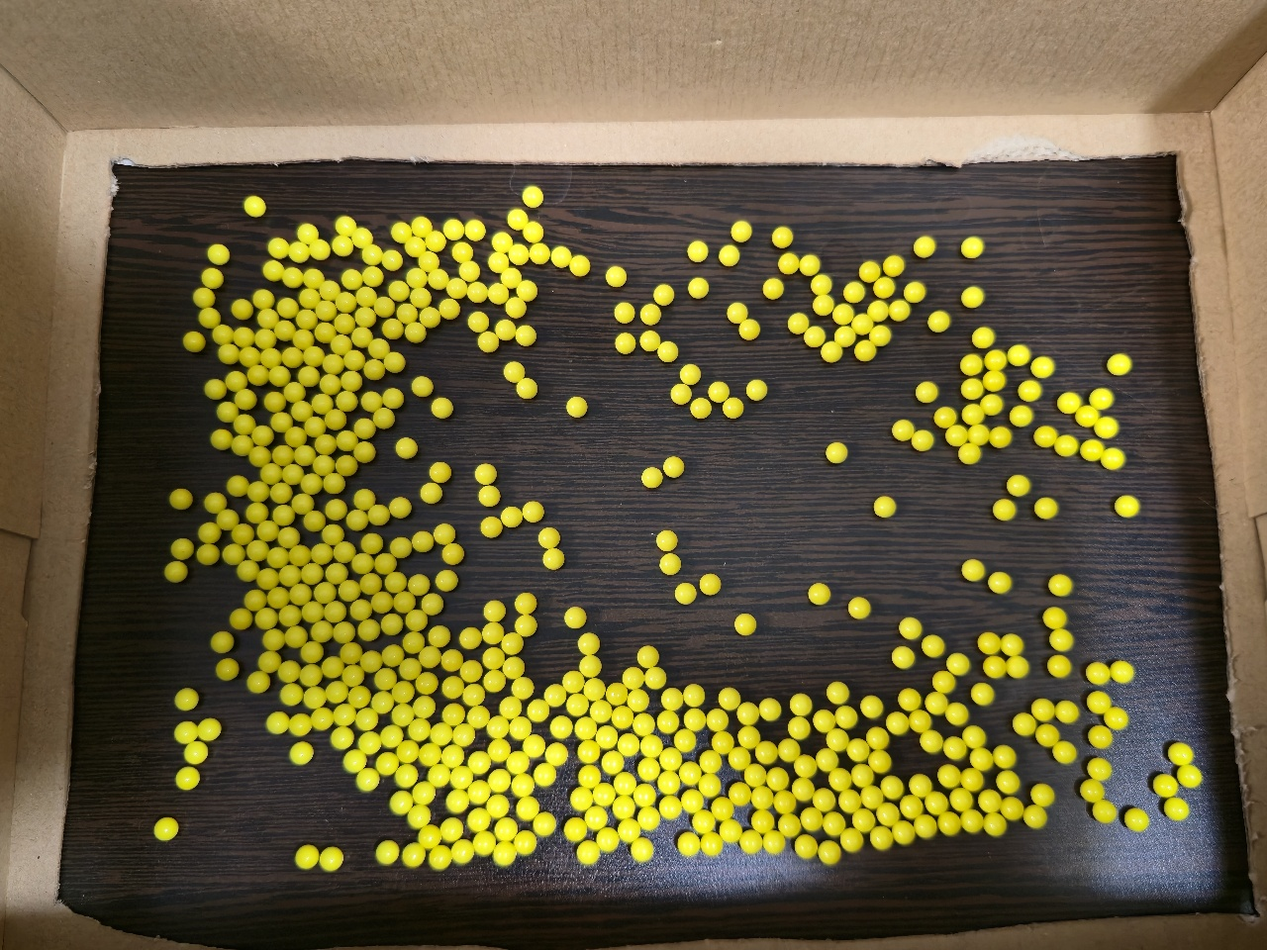yellow_bead: (831, 447, 841, 458), (693, 245, 703, 256), (751, 385, 761, 395), (522, 383, 532, 393), (724, 250, 734, 260), (879, 502, 888, 513), (736, 226, 745, 237), (395, 797, 403, 809), (646, 472, 655, 482), (685, 369, 694, 379), (611, 271, 620, 281), (795, 699, 802, 711), (662, 346, 670, 356), (448, 224, 456, 234), (680, 588, 687, 599), (732, 308, 740, 317), (556, 251, 565, 259), (514, 248, 522, 257), (470, 225, 478, 234), (528, 191, 537, 199), (569, 613, 576, 623), (571, 402, 578, 412), (693, 283, 700, 293), (583, 638, 589, 649), (665, 558, 671, 569), (348, 760, 356, 768), (521, 331, 529, 339), (500, 325, 508, 333), (493, 257, 501, 265), (550, 750, 557, 759), (993, 577, 1000, 586), (668, 462, 675, 471), (509, 367, 516, 376), (214, 249, 221, 258), (361, 781, 371, 787), (489, 606, 495, 616), (816, 279, 826, 285), (249, 201, 259, 207), (724, 693, 731, 701), (897, 651, 904, 659), (480, 469, 487, 477), (522, 285, 529, 293), (464, 266, 472, 273), (497, 237, 505, 244), (543, 532, 548, 543), (381, 850, 387, 859), (666, 693, 672, 702), (809, 332, 818, 338), (658, 289, 667, 295), (548, 554, 553, 564), (528, 507, 533, 517), (484, 491, 489, 501), (357, 233, 367, 238), (595, 709, 602, 716), (401, 442, 408, 449), (437, 403, 444, 410), (483, 336, 490, 343), (793, 318, 800, 325), (511, 302, 518, 309), (303, 229, 310, 236), (451, 799, 457, 807), (905, 622, 913, 628), (967, 565, 973, 573), (506, 512, 512, 520), (676, 389, 682, 397), (921, 388, 927, 396), (645, 335, 651, 343), (620, 308, 626, 316), (689, 691, 694, 700), (451, 283, 460, 288), (448, 754, 454, 761), (528, 744, 535, 750), (505, 704, 511, 711), (831, 689, 838, 695), (520, 621, 526, 628), (897, 425, 904, 431), (696, 403, 703, 409), (621, 338, 627, 345), (506, 273, 513, 279), (367, 250, 374, 256), (513, 213, 519, 220), (827, 346, 832, 354), (473, 317, 478, 325), (637, 847, 643, 853), (272, 722, 278, 728), (642, 651, 648, 657), (427, 599, 433, 605), (705, 579, 711, 585), (426, 488, 432, 494), (918, 435, 924, 441), (933, 316, 939, 322), (493, 288, 499, 294), (473, 287, 479, 293), (575, 260, 581, 266), (341, 221, 347, 227), (584, 662, 591, 667), (838, 309, 845, 314), (818, 300, 825, 305), (433, 274, 440, 279), (412, 273, 419, 278), (967, 292, 975, 296), (967, 241, 975, 245), (515, 725, 521, 730), (628, 675, 634, 680), (951, 659, 957, 664), (440, 575, 446, 580), (840, 332, 846, 337), (920, 240, 926, 245), (541, 772, 545, 779), (865, 704, 872, 708), (417, 382, 424, 386), (410, 328, 417, 332), (849, 287, 856, 291), (499, 855, 504, 860), (689, 717, 694, 722), (571, 702, 576, 707), (651, 674, 656, 679), (487, 628, 492, 633), (739, 620, 744, 625), (853, 605, 858, 610), (520, 599, 525, 604), (486, 522, 491, 527), (396, 503, 401, 508), (858, 319, 863, 324), (456, 777, 462, 781), (831, 739, 837, 743), (555, 726, 563, 729), (492, 726, 498, 730), (896, 305, 902, 309), (768, 283, 774, 287), (607, 763, 614, 766), (645, 745, 652, 748), (535, 705, 538, 712), (416, 293, 423, 296), (515, 763, 519, 768), (625, 744, 630, 748), (640, 722, 645, 726), (765, 707, 770, 711), (590, 686, 595, 690), (568, 679, 572, 684), (664, 535, 668, 540), (388, 394, 393, 398), (444, 304, 449, 308), (269, 265, 274, 269), (807, 259, 811, 264), (643, 818, 649, 821), (475, 762, 481, 765), (295, 753, 298, 759), (601, 736, 607, 739), (742, 712, 748, 715), (417, 537, 423, 540), (427, 313, 433, 316), (600, 795, 604, 799), (439, 733, 443, 737), (580, 726, 584, 730), (508, 663, 512, 667), (416, 580, 420, 584), (374, 510, 378, 514), (369, 271, 373, 275), (427, 256, 431, 260), (397, 227, 401, 231), (620, 783, 625, 786), (893, 722, 898, 725), (439, 530, 444, 533), (361, 424, 366, 427), (357, 332, 362, 335), (744, 325, 749, 328), (362, 313, 367, 316), (403, 309, 408, 312), (876, 306, 879, 311), (259, 295, 264, 298), (327, 286, 332, 289), (347, 274, 352, 277), (778, 232, 783, 235), (814, 593, 821, 595), (587, 852, 590, 856), (578, 798, 582, 801), (497, 779, 501, 782), (404, 776, 408, 779), (823, 758, 827, 761), (667, 757, 671, 760), (466, 634, 469, 638), (342, 397, 346, 400), (349, 376, 353, 379), (330, 359, 333, 363), (648, 309, 652, 312), (911, 287, 915, 290), (396, 286, 400, 289), (289, 272, 293, 275), (535, 249, 538, 253), (458, 247, 462, 250), (419, 222, 422, 226), (819, 719, 824, 721), (362, 292, 367, 294), (784, 261, 789, 263), (296, 247, 301, 249), (627, 831, 630, 834), (461, 735, 464, 738), (714, 718, 717, 721), (634, 699, 637, 702), (333, 569, 336, 572), (399, 544, 402, 547), (224, 407, 227, 410), (369, 398, 372, 401), (377, 343, 380, 346), (343, 297, 346, 300), (317, 246, 320, 249), (519, 687, 523, 689), (355, 516, 357, 520), (719, 387, 721, 391), (211, 385, 215, 387), (305, 372, 309, 374), (390, 358, 394, 360), (265, 315, 269, 317), (687, 845, 689, 848), (594, 817, 597, 819), (417, 816, 420, 818), (477, 793, 480, 795), (521, 785, 524, 787), (437, 776, 440, 778), (854, 750, 857, 752), (341, 737, 343, 740), (841, 715, 844, 717), (421, 707, 424, 709), (1016, 666, 1019, 668), (360, 558, 362, 561), (282, 511, 284, 514), (299, 408, 302, 410), (292, 387, 294, 390), (329, 380, 332, 382), (392, 324, 394, 327), (324, 306, 326, 309), (382, 302, 385, 304), (311, 274, 314, 276), (209, 273, 211, 276), (274, 243, 277, 245), (541, 825, 546, 826), (329, 859, 331, 861), (603, 840, 605, 842), (449, 830, 451, 832), (525, 808, 527, 810), (423, 793, 425, 795), (688, 772, 690, 774), (801, 765, 803, 767), (418, 729, 420, 731), (797, 726, 799, 728), (365, 719, 367, 721), (402, 713, 404, 715), (489, 679, 491, 681), (428, 654, 430, 656), (342, 630, 344, 632), (334, 609, 336, 611), (383, 413, 384, 417), (435, 237, 437, 239), (859, 775, 862, 776), (369, 742, 370, 745), (928, 740, 931, 741), (390, 736, 393, 737), (310, 480, 311, 483), (438, 467, 439, 470), (372, 364, 373, 367), (340, 339, 341, 342), (877, 332, 880, 333), (460, 854, 461, 856), (504, 830, 506, 831), (889, 787, 891, 788), (919, 785, 921, 786), (786, 750, 788, 751), (416, 617, 417, 619), (335, 507, 336, 509), (323, 461, 324, 463), (303, 452, 305, 453), (321, 400, 322, 402), (225, 350, 227, 351), (306, 315, 307, 317), (390, 254, 392, 255), (338, 241, 339, 243), (532, 231, 534, 232), (826, 853, 827, 854), (823, 800, 824, 801), (802, 790, 803, 791), (709, 786, 710, 787), (647, 769, 648, 770), (737, 758, 738, 759), (195, 753, 196, 754), (474, 717, 475, 718), (477, 716, 478, 717), (343, 714, 344, 715), (934, 702, 935, 703), (381, 702, 382, 703), (313, 697, 314, 698), (469, 694, 470, 695), (489, 658, 490, 659), (1010, 643, 1011, 644), (510, 642, 511, 643), (438, 634, 439, 635), (322, 629, 323, 630), (313, 610, 314, 611), (359, 608, 360, 609), (312, 571, 313, 572), (343, 549, 344, 550), (665, 545, 666, 546), (302, 501, 303, 502), (977, 433, 978, 434), (261, 431, 262, 432), (352, 357, 353, 358), (264, 335, 265, 336), (286, 306, 287, 307), (415, 244, 416, 245)
